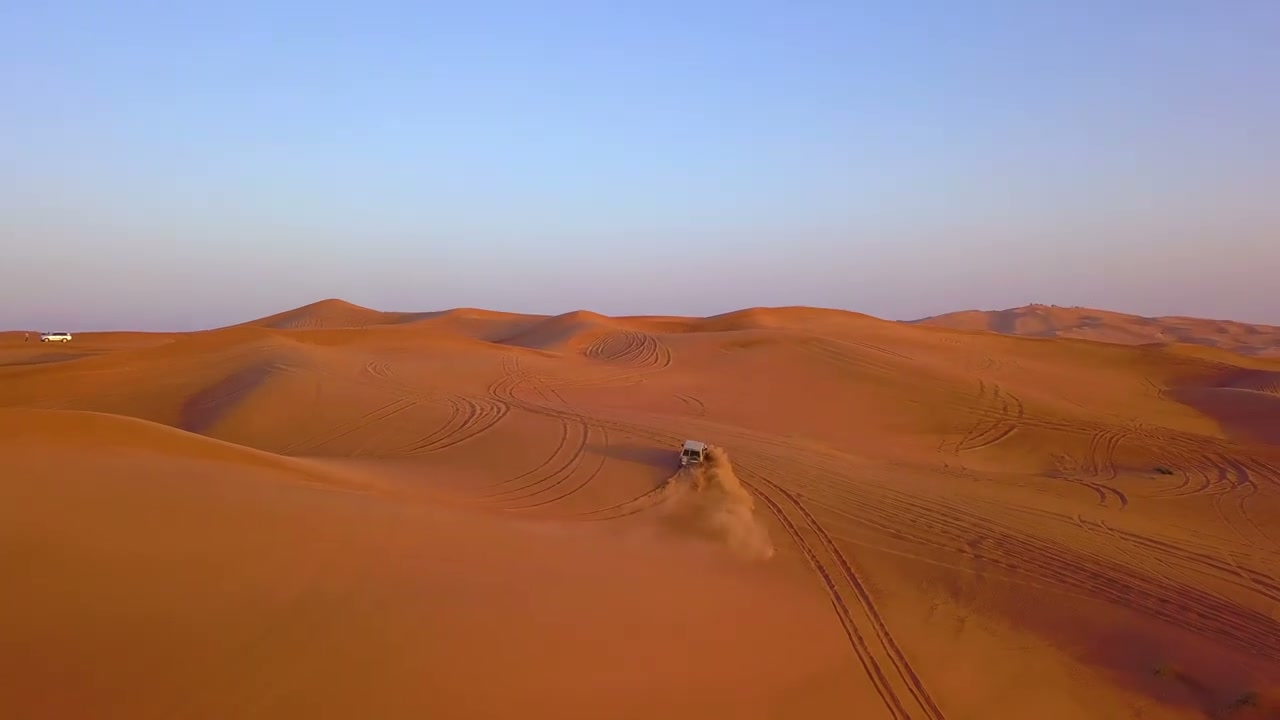vehicle_track: (838, 486, 1279, 659), (738, 462, 944, 719), (477, 355, 607, 509), (365, 360, 509, 455), (280, 397, 417, 454), (543, 330, 672, 387), (953, 379, 1025, 454), (674, 393, 705, 416)
